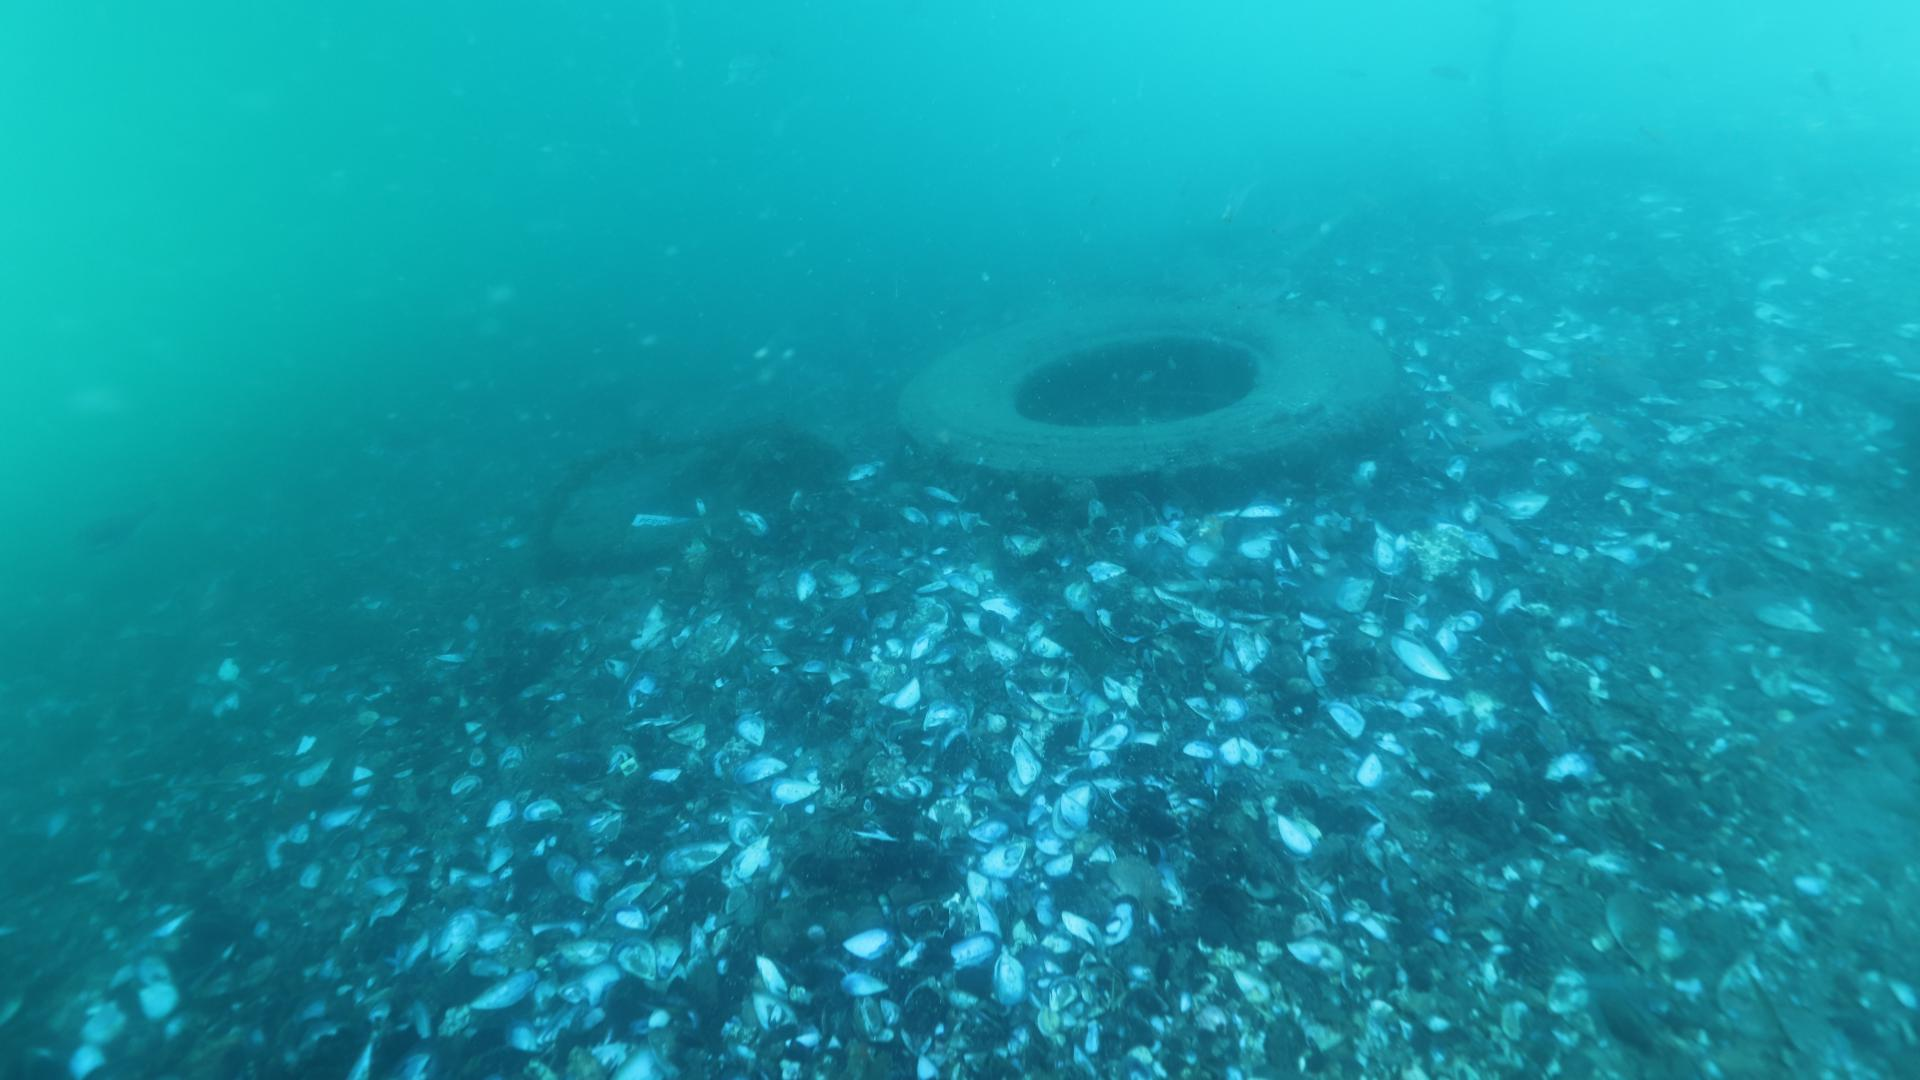tire: (897, 291, 1414, 537)
